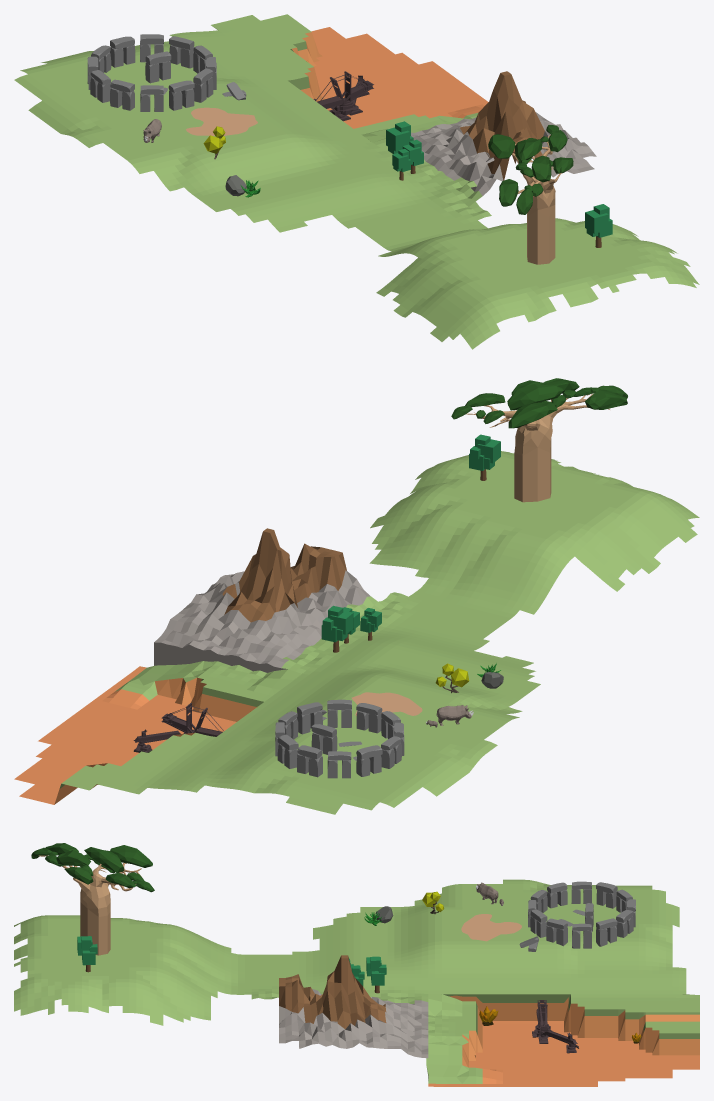
The model's file is map2.glb.
3 views of the same model, one above another, from view 1: azimuth 30°, elevation 25°; view 2: azimuth 150°, elevation 25°; view 3: azimuth 270°, elevation 25° (orthographic). The views are drawn at different scales.
Visible parts, largest first — view 1: Plane, Plane.007, Majomkenyérfa, Plane.001, Plane.002, polySurface205, Savanna.003, Plane.003, Savanna.008, Plane.006, rock03.016, rock03.005 (+7 smaller); view 2: Plane, Plane.007, Plane.001, Majomkenyérfa, Plane.003, Plane.002, Plane.006, Plane.004, polySurface205, Savanna.006, Savanna.003, Savanna.008 (+4 smaller); view 3: Plane, Plane.007, Plane.006, Plane.001, Majomkenyérfa, Plane.003, Plane.002, Plane.005, Savanna.003, polySurface205, Savanna.006, Savanna.008 (+8 smaller).
Part boxes in pixels (box(x1,y1,x2,y2)): Plane: box(14, 14, 699, 349); Plane.007: box(311, 27, 488, 128); Majomkenyérfa: box(488, 125, 573, 264); Plane.001: box(411, 112, 596, 195); Plane.002: box(478, 71, 544, 139); polySurface205: box(313, 71, 373, 121); Savanna.003: box(186, 107, 257, 135); Plane.003: box(460, 113, 542, 180); Savanna.008: box(585, 204, 612, 247); Plane.006: box(292, 32, 324, 101); rock03.016: box(145, 51, 171, 83); rock03.005: box(110, 36, 135, 67); Plane: box(61, 451, 699, 814); Plane.007: box(14, 666, 236, 804); Plane.001: box(154, 570, 370, 663); Majomkenyérfa: box(451, 378, 627, 502); Plane.003: box(222, 543, 346, 622); Plane.002: box(239, 528, 291, 603); Plane.006: box(54, 677, 256, 804); Plane.004: box(154, 642, 288, 672); polySurface205: box(133, 703, 223, 752); Savanna.006: box(321, 605, 353, 652); Savanna.003: box(351, 692, 422, 715); Savanna.008: box(469, 434, 500, 480); Plane: box(14, 879, 699, 1083); Plane.007: box(428, 1021, 699, 1086); Plane.006: box(449, 995, 699, 1067); Plane.001: box(279, 989, 428, 1058); Majomkenyérfa: box(31, 843, 154, 955); Plane.003: box(279, 974, 386, 1029); Plane.002: box(322, 955, 365, 1021); Plane.005: box(443, 994, 699, 1038); Savanna.003: box(461, 914, 521, 941); polySurface205: box(532, 1000, 578, 1053); Savanna.006: box(366, 956, 386, 993); Savanna.008: box(77, 936, 97, 972).
Size of the model in its own units: 135 by 60.88 by 239.
